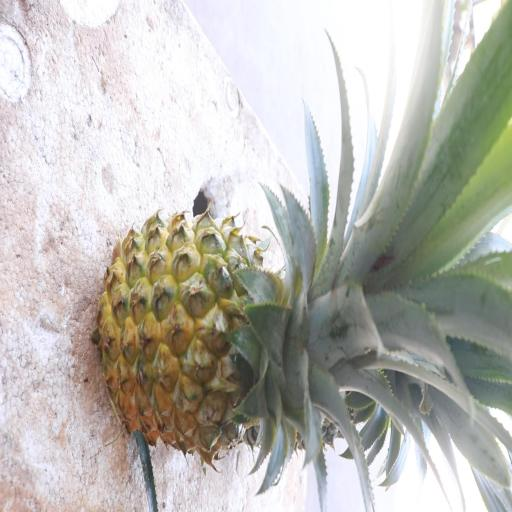Pineapple - v8 v1: (94, 205, 374, 473)
